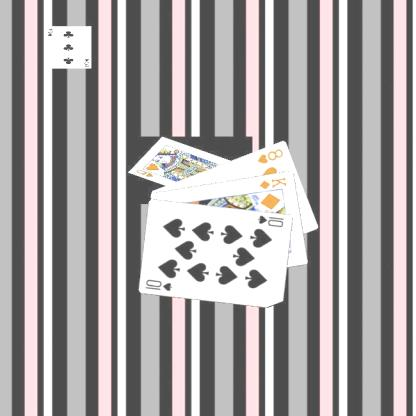10S: (143, 276, 174, 292), (255, 212, 285, 228)
8H: (254, 145, 285, 165)
KD: (256, 174, 288, 191)
